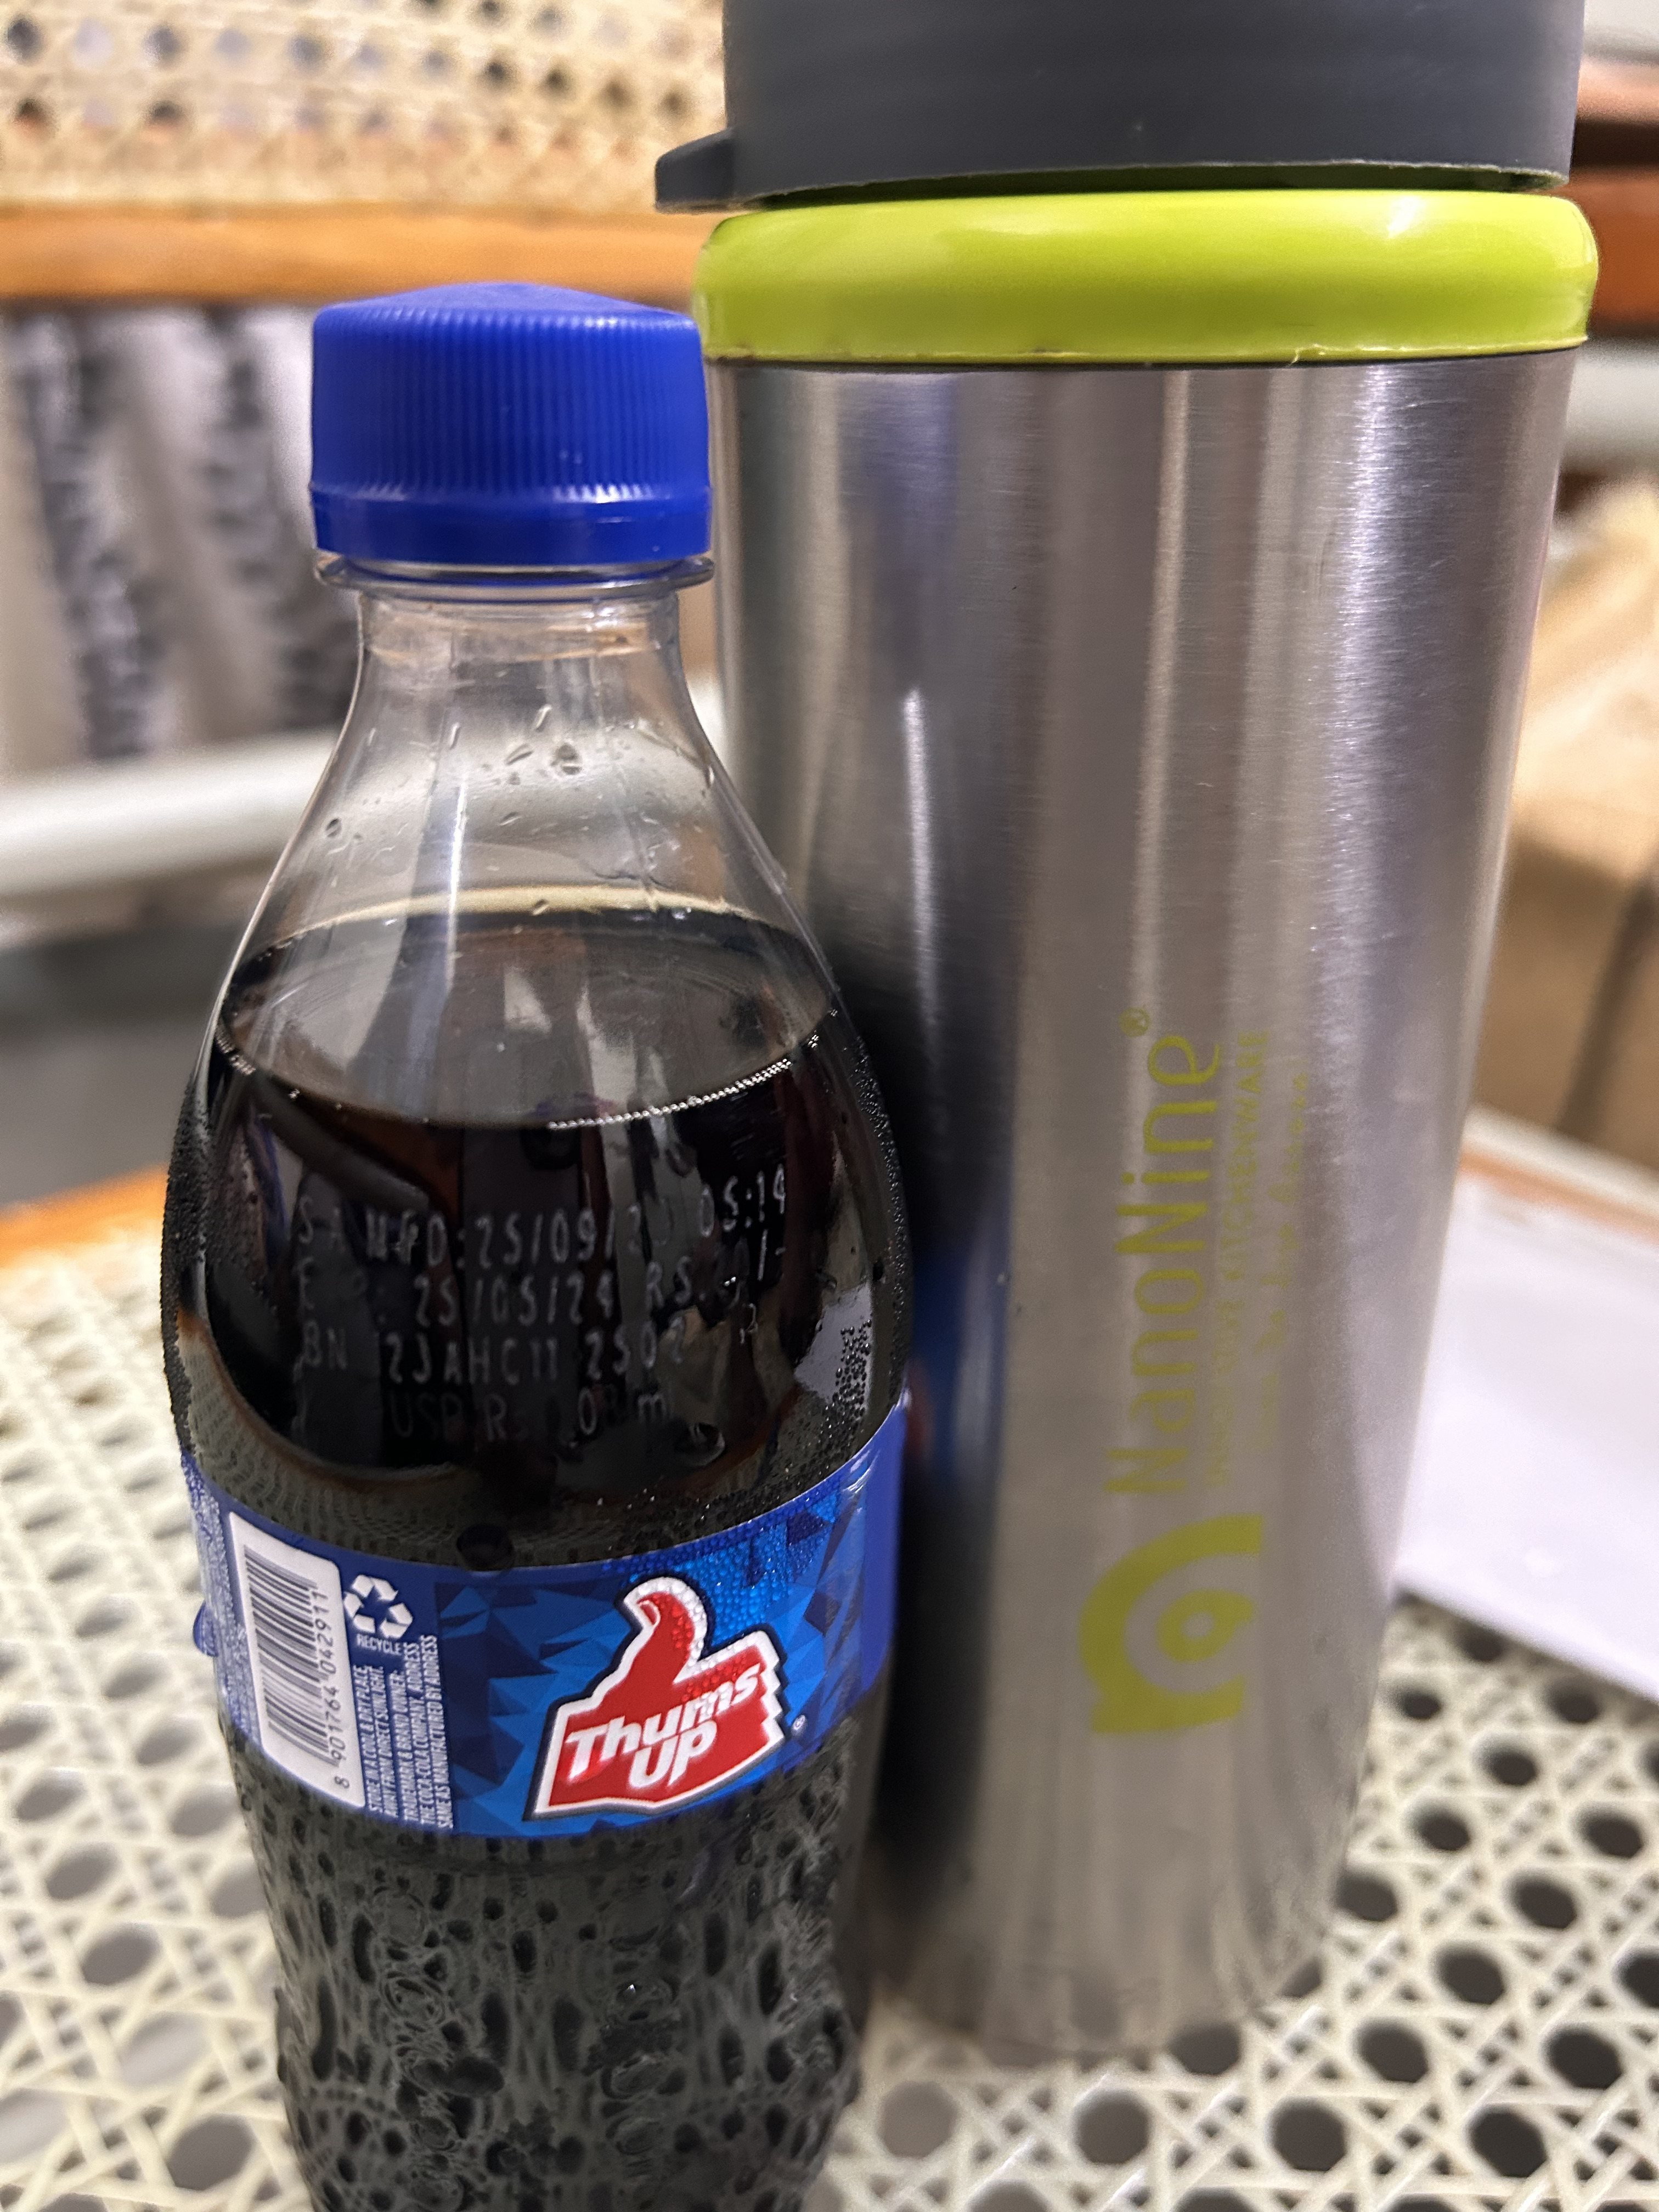sealstable: (282, 249, 732, 693)
